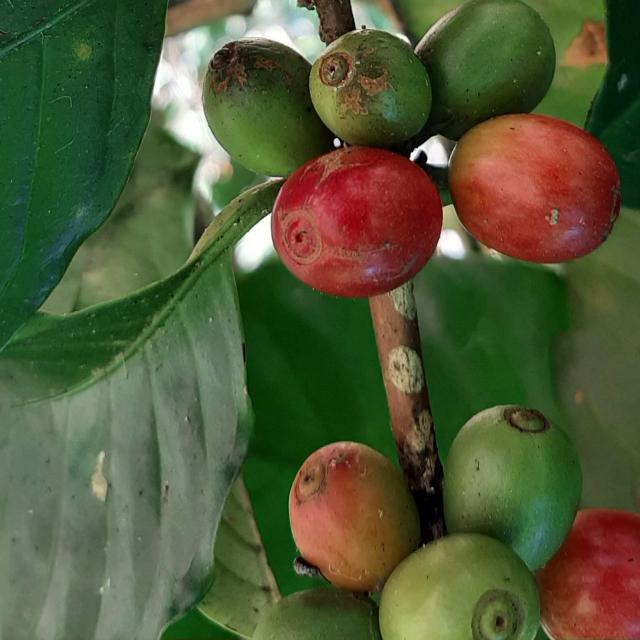green: (445, 405, 584, 571), (416, 0, 557, 139), (203, 37, 332, 176), (380, 534, 541, 640), (309, 28, 433, 146)
red: (272, 145, 443, 298), (449, 113, 622, 263), (539, 510, 640, 640)
yellow: (289, 442, 420, 593)
